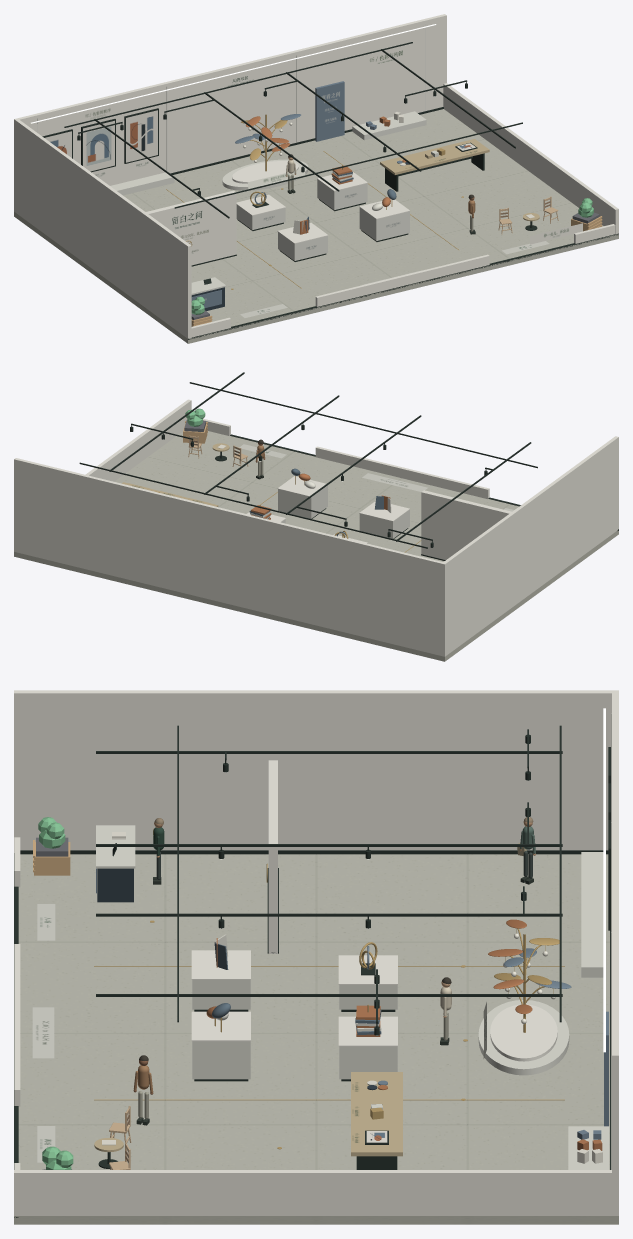
File: museum.glb
The picture shows the model from 3 angles, top to bottom: view 1: azimuth 30°, elevation 25°; view 2: azimuth 150°, elevation 25°; view 3: azimuth 270°, elevation 25°; orthographic projection. The views are drawn at different scales.
Visible parts, largest first — view 1: Floor_20m_by_14m_1, BackWall_3, LeftWall_4, RightCutawayWall_5, PrologueWall_40, FrontCutawayWall_7, OriginalAbstractPainting_55, Label_42, OriginalAbstractPainting_52, ExperienceTableTop_145, Label_58, Label_161 (+20 smaller); view 2: BackWall_3, Floor_20m_by_14m_1, LeftWall_4, PrologueWall_40, RightCutawayWall_5, FrontCutawayWall_7, OpenStonePlinth_64, OpenStonePlinth_60, RailConnector_178, RailConnector_179, PlinthTop_65, PlinthTop_61 (+1 smaller); view 3: Floor_20m_by_14m_1, LeftWall_4, RightCutawayWall_5, BackWall_3, ExperienceTableTop_145, InnerSculpturePlatform_97, WallStudyBase_57, EllipticalIsland_96, OpenStonePlinth_64, ShadowSkirting_10, PrologueWall_40, TrackLightRail_176 (+20 smaller).
Part boxes in pixels (x1,y1,x2,y2): Floor_20m_by_14m_1: (14, 109, 618, 343); BackWall_3: (14, 14, 446, 212); LeftWall_4: (14, 118, 191, 338); RightCutawayWall_5: (443, 83, 618, 234); PrologueWall_40: (146, 190, 236, 265); FrontCutawayWall_7: (315, 254, 489, 306); OriginalAbstractPainting_55: (126, 110, 157, 162); Label_42: (153, 199, 228, 232); OriginalAbstractPainting_52: (83, 120, 114, 171); ExperienceTableTop_145: (380, 139, 489, 174); Label_58: (35, 94, 160, 133); Label_161: (344, 41, 428, 74); BackWall_3: (14, 458, 446, 656); Floor_20m_by_14m_1: (14, 431, 618, 661); LeftWall_4: (441, 436, 618, 656); PrologueWall_40: (421, 490, 511, 559); RightCutawayWall_5: (85, 399, 191, 481); FrontCutawayWall_7: (315, 446, 489, 498); OpenStonePlinth_64: (278, 485, 327, 518); OpenStonePlinth_60: (359, 509, 409, 538); RailConnector_178: (79, 462, 427, 548); RailConnector_179: (189, 382, 537, 468); PlinthTop_65: (277, 476, 326, 496); PlinthTop_61: (359, 501, 409, 521); Floor_20m_by_14m_1: (14, 854, 618, 1224); LeftWall_4: (14, 690, 618, 852); RightCutawayWall_5: (14, 1170, 618, 1215); BackWall_3: (612, 690, 618, 1215); ExperienceTableTop_145: (351, 1072, 402, 1156); InnerSculpturePlatform_97: (490, 1004, 557, 1061); WallStudyBase_57: (581, 852, 603, 977); EllipticalIsland_96: (478, 1000, 569, 1075); OpenStonePlinth_64: (192, 1041, 250, 1079); ShadowSkirting_10: (20, 850, 608, 854); PrologueWall_40: (268, 760, 277, 953); TrackLightRail_176: (96, 913, 562, 916).
Size of the model in its own units: 20 by 4.32 by 14.
62 materials, 30 textured.
